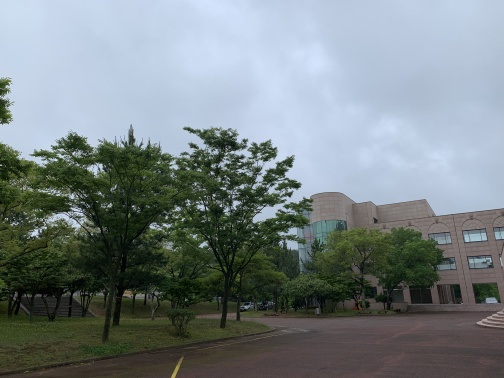Joint Experimental Labs: (293, 189, 355, 286)
